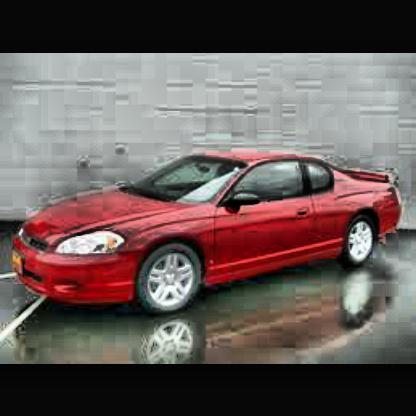Chevrolet Monte Carlo Coupe 2007: (6, 143, 407, 321)
